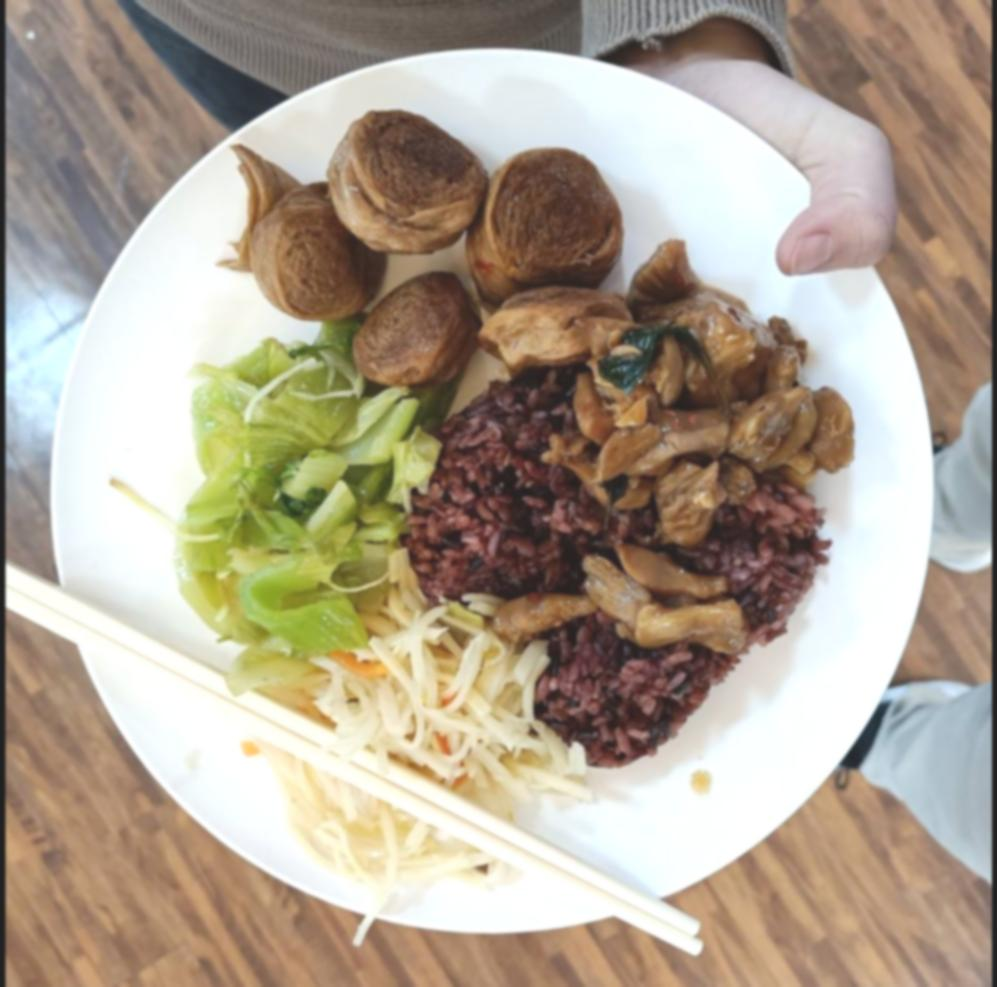plate: (32, 34, 940, 944)
purple rice: (410, 356, 834, 766)
side dish: (221, 111, 621, 386), (255, 635, 564, 902), (177, 342, 438, 650)
three cup chicken: (550, 228, 855, 650)
